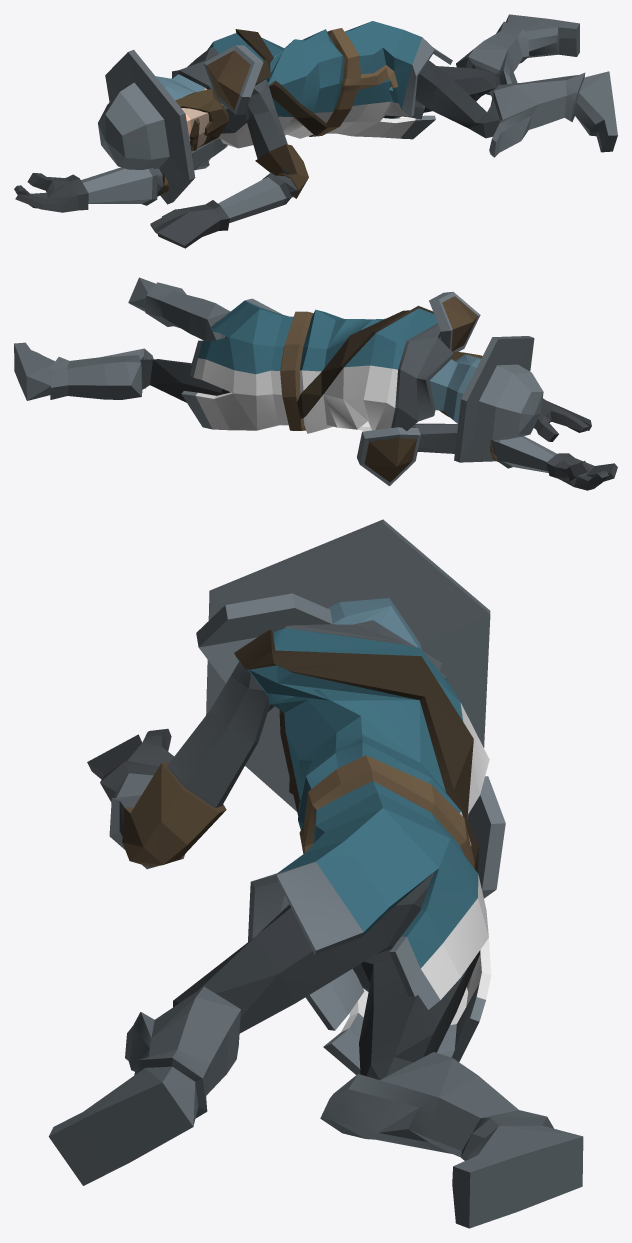
Rendered from SM_Dead_Guard_04.fbx.
The picture shows the model from 3 angles, top to bottom: view 1: azimuth 30°, elevation 25°; view 2: azimuth 150°, elevation 25°; view 3: azimuth 270°, elevation 25°; orthographic projection. The views are drawn at different scales.
Parts seen in each view (by area): view 1: SM_Dead_Guard_04; view 2: SM_Dead_Guard_04; view 3: SM_Dead_Guard_04.
Boxes of the visible parts, box(x1,y1,x2,y2) form: SM_Dead_Guard_04: box(14, 14, 617, 248); SM_Dead_Guard_04: box(14, 277, 617, 490); SM_Dead_Guard_04: box(48, 519, 583, 1228).
Bounding box in the file's own units: 211 × 54.61 × 85.1.
